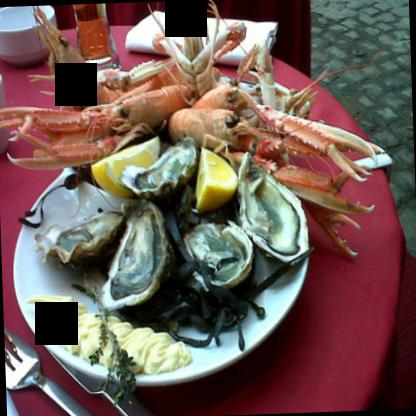oyster: (238, 154, 312, 266), (176, 203, 251, 287), (105, 206, 172, 300)
shrimp: (32, 4, 118, 104), (172, 103, 252, 160), (112, 81, 195, 132), (192, 78, 254, 116)
